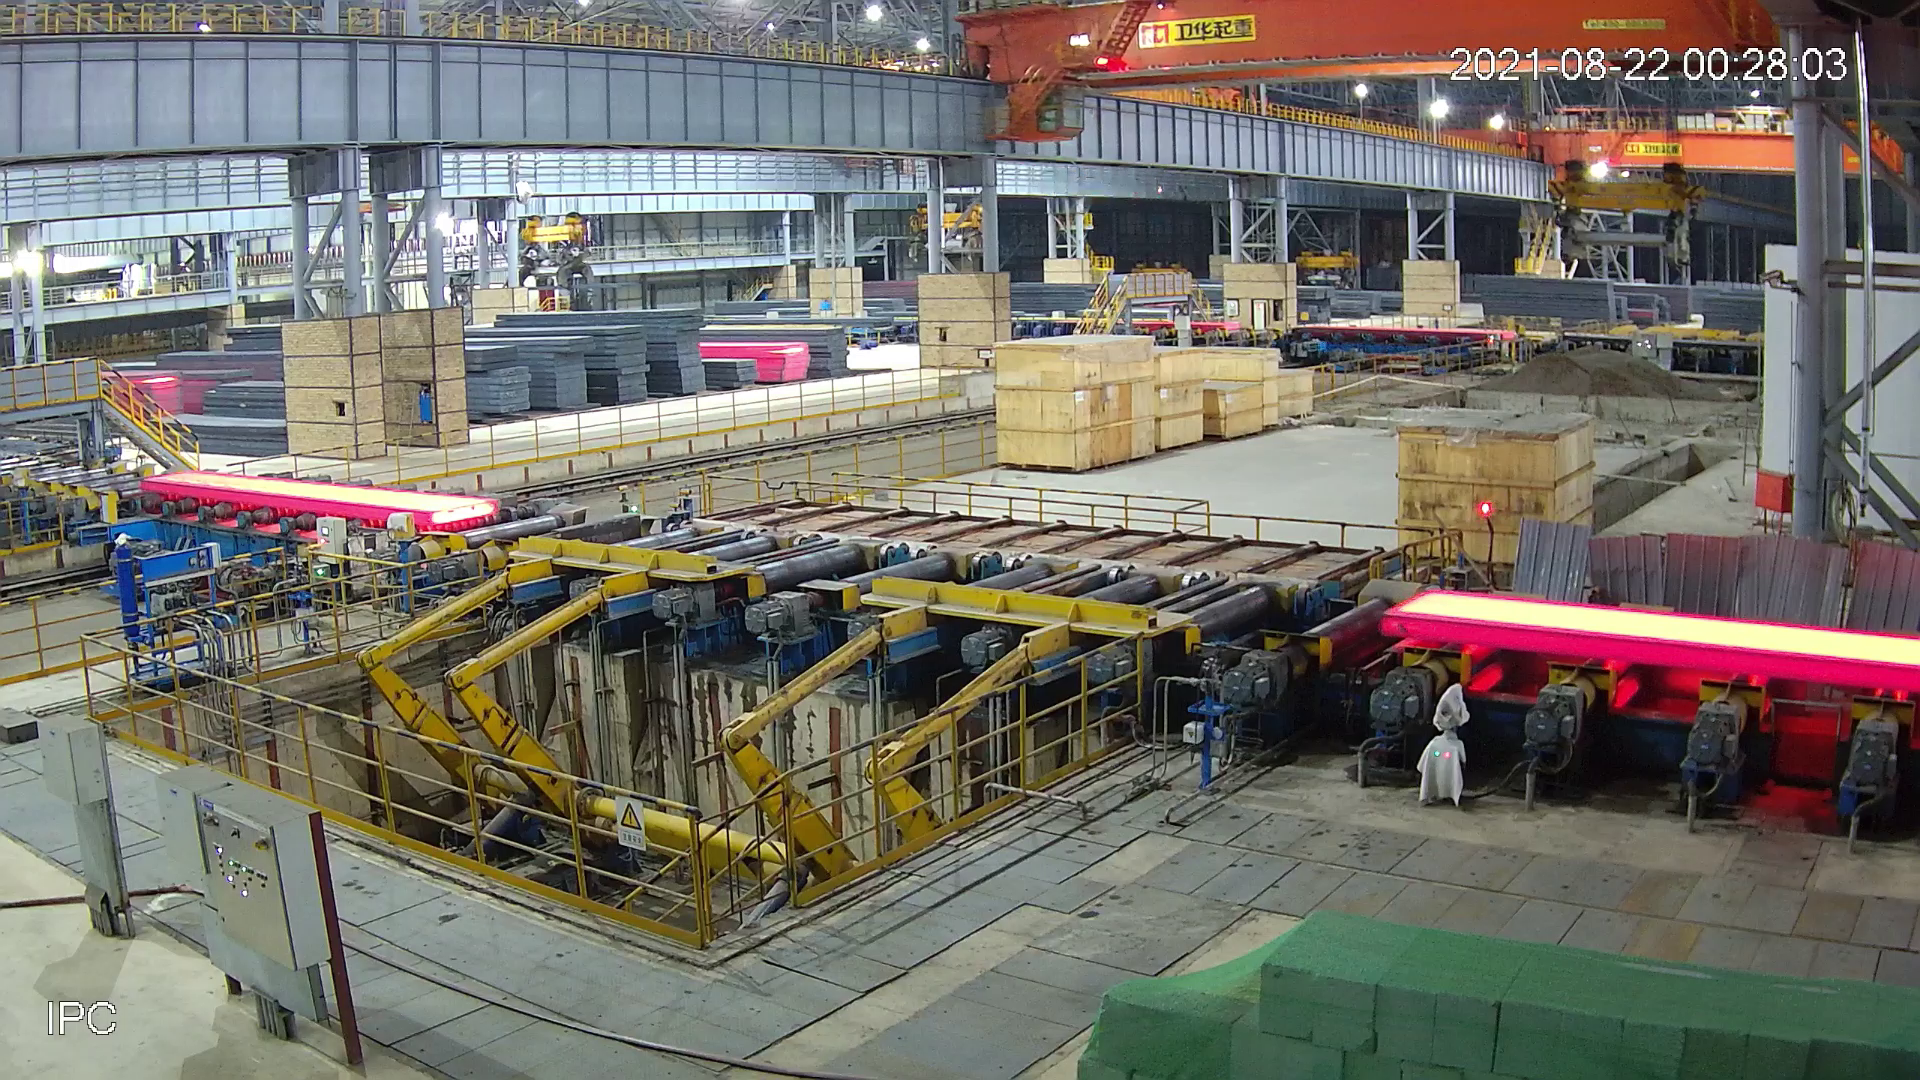slab: (1382, 583, 1920, 698), (138, 463, 506, 531)
